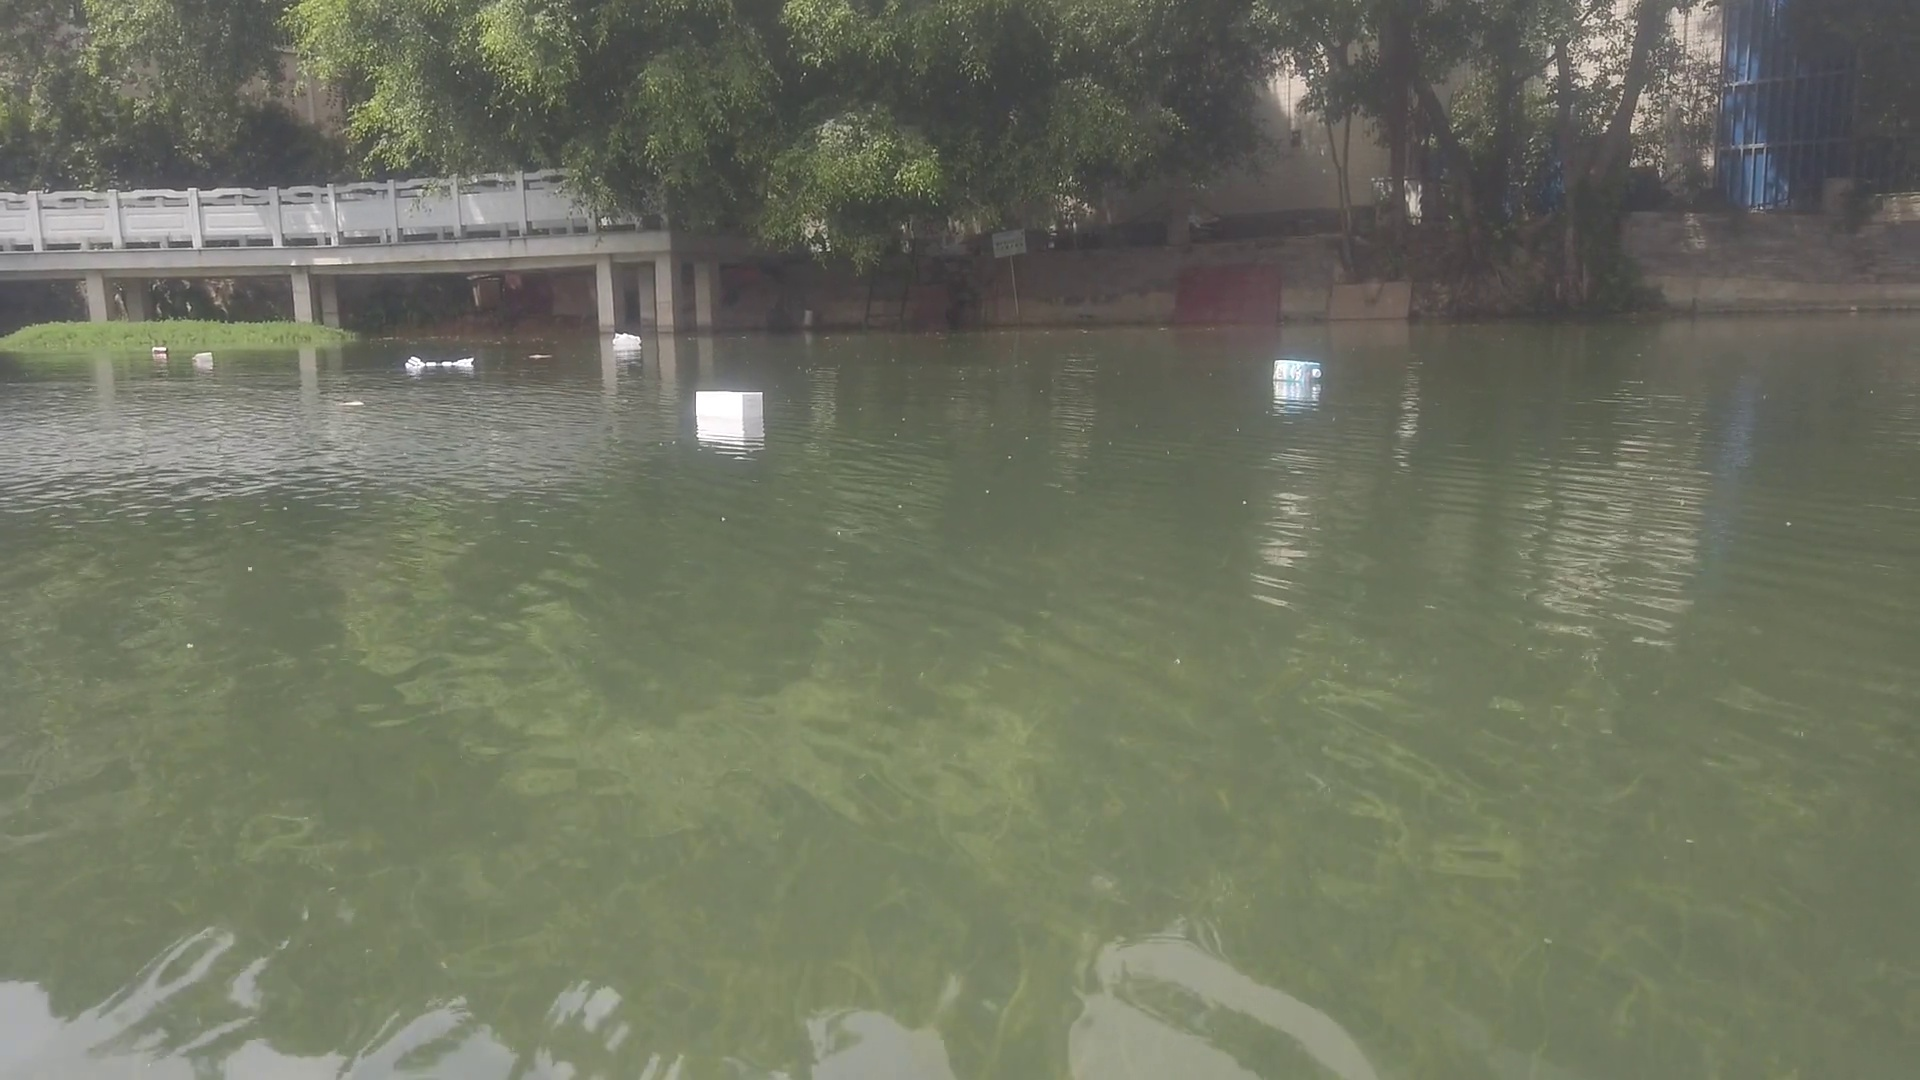bottle: (149, 343, 170, 356)
carton: (692, 388, 770, 419), (1269, 357, 1327, 386), (193, 348, 215, 361)
paper: (404, 348, 477, 373), (335, 396, 369, 411), (527, 352, 553, 363)
plastic: (612, 330, 644, 347)
